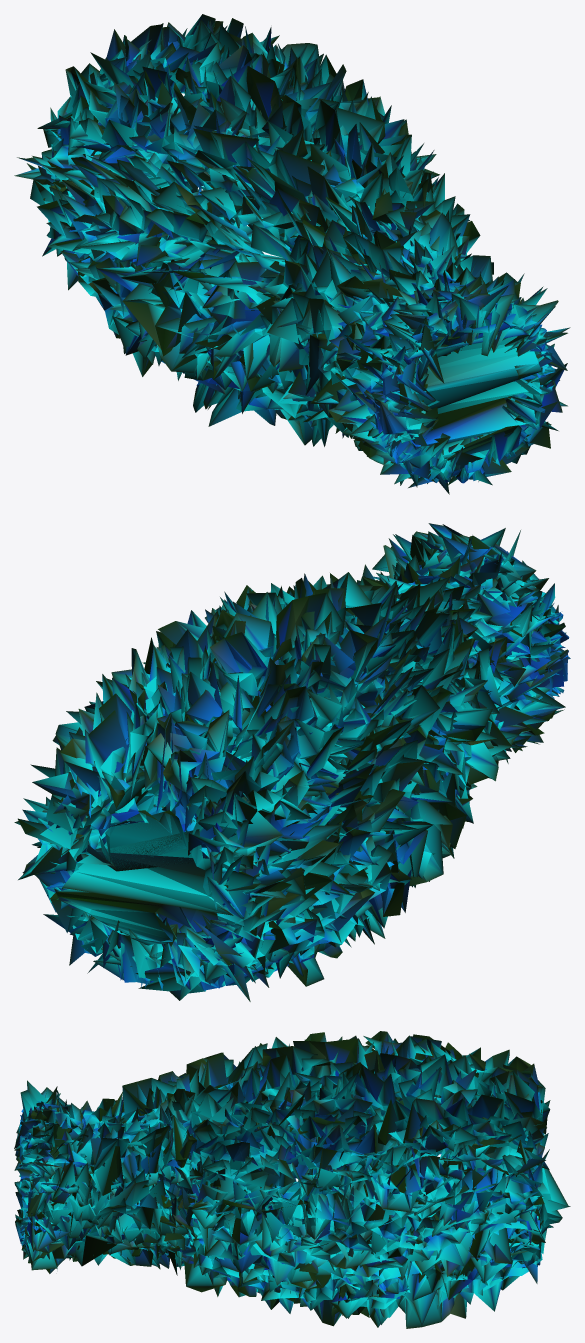
Rendered from lamp_shade_10_final400.obj.
3 views of the same model, one above another, from view 1: azimuth 30°, elevation 25°; view 2: azimuth 150°, elevation 25°; view 3: azimuth 270°, elevation 25° (orthographic). The views are drawn at different scales.
Size of the model in its own units: 1.03 by 1.02 by 1.92.
